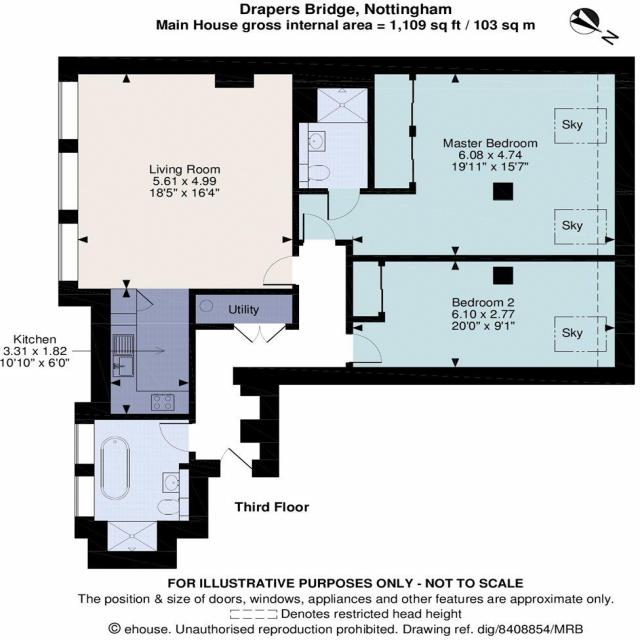DOOR: (260, 253, 299, 288), (299, 212, 338, 246), (345, 332, 383, 365)
ROOM: (58, 55, 300, 420), (344, 253, 637, 386)
